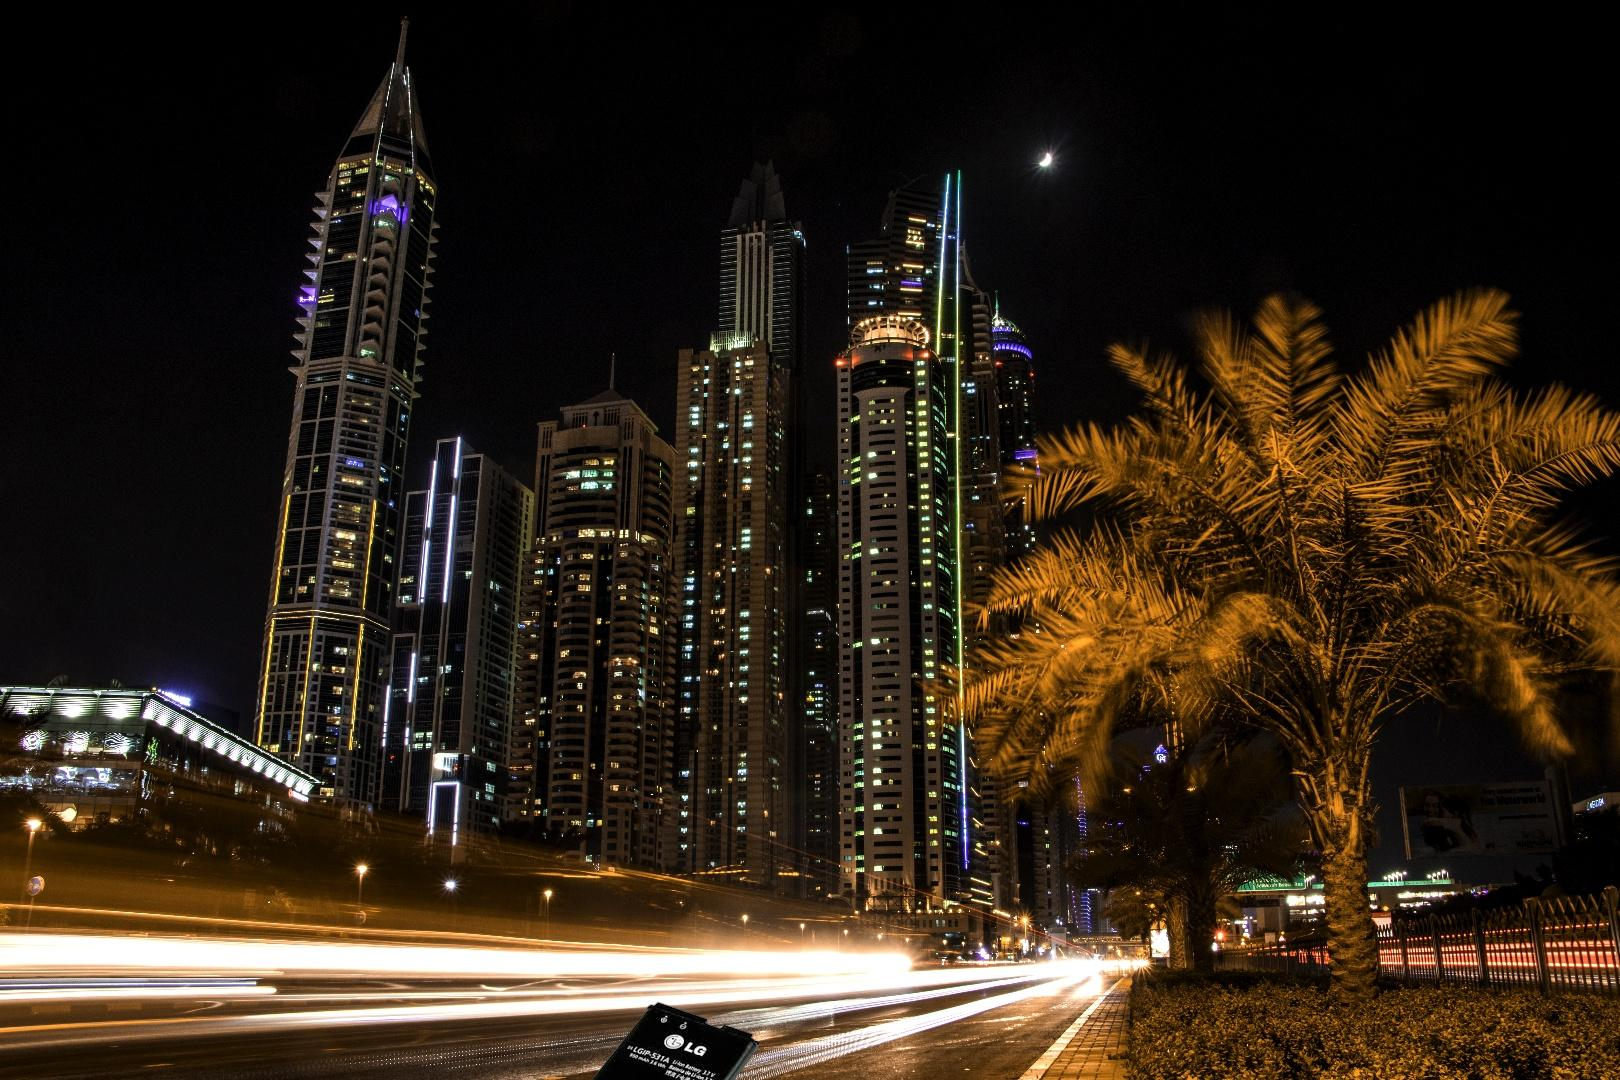battery: (545, 998, 763, 1080)
